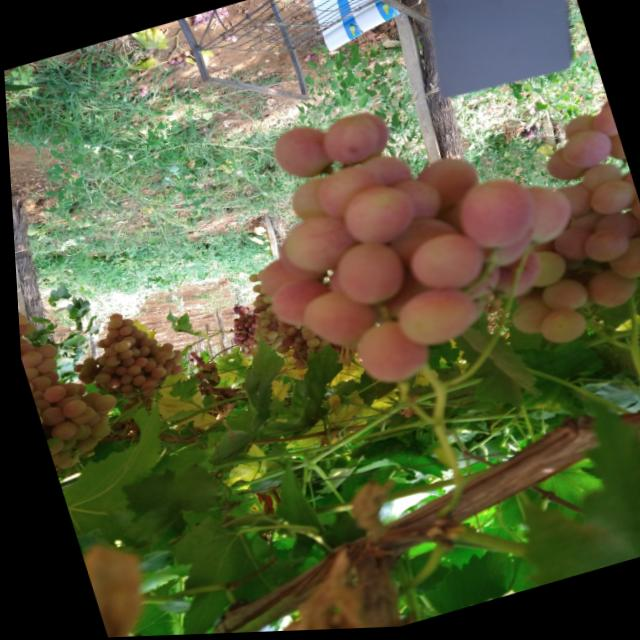grapes: (445, 171, 541, 261), (386, 281, 484, 356), (292, 283, 381, 357), (326, 236, 410, 314), (272, 208, 360, 282), (400, 227, 487, 301), (347, 317, 431, 393), (334, 179, 419, 252), (497, 181, 574, 256), (309, 161, 395, 228), (264, 119, 342, 188), (379, 212, 463, 276), (407, 153, 485, 221), (248, 248, 330, 305), (472, 243, 542, 309), (262, 276, 336, 335), (312, 113, 381, 174), (367, 257, 432, 321), (282, 173, 349, 232), (469, 217, 536, 275), (332, 108, 393, 169), (382, 175, 443, 233), (577, 266, 639, 318), (349, 152, 412, 203), (445, 259, 504, 309), (554, 130, 613, 178), (513, 248, 568, 296), (532, 306, 587, 353), (540, 184, 592, 230), (535, 278, 588, 323), (576, 228, 630, 272), (546, 226, 598, 271), (538, 146, 593, 188), (501, 299, 552, 344), (597, 237, 640, 289), (557, 114, 609, 156), (583, 182, 637, 222), (587, 213, 636, 253), (574, 165, 624, 201), (565, 213, 608, 245), (584, 109, 617, 147), (608, 212, 640, 249), (598, 131, 624, 171), (593, 100, 615, 140), (32, 403, 62, 428), (622, 195, 640, 233), (85, 392, 113, 416), (43, 420, 73, 442), (62, 405, 92, 427), (55, 398, 83, 419), (47, 451, 76, 471), (30, 367, 56, 389), (49, 380, 76, 401), (65, 435, 93, 455), (82, 420, 108, 441), (75, 390, 101, 411), (29, 341, 55, 362), (27, 355, 54, 375), (37, 383, 62, 404), (23, 375, 48, 395), (16, 347, 38, 368), (47, 395, 74, 412), (47, 435, 73, 452), (40, 435, 61, 456), (56, 424, 81, 441), (65, 424, 87, 441), (83, 412, 105, 429), (76, 409, 96, 427), (62, 383, 83, 400), (19, 363, 36, 382), (46, 446, 69, 460), (188, 371, 204, 389), (29, 397, 47, 413), (121, 328, 140, 343), (126, 356, 145, 371), (87, 371, 107, 385), (144, 366, 162, 381), (15, 322, 33, 337), (134, 386, 153, 400), (133, 380, 152, 394), (99, 376, 118, 390), (96, 362, 115, 376), (287, 358, 304, 373), (121, 363, 138, 378), (126, 373, 142, 388), (275, 337, 292, 351), (114, 317, 131, 331), (116, 335, 133, 349), (148, 350, 165, 364), (295, 330, 313, 343), (132, 398, 150, 411), (74, 364, 92, 377), (102, 317, 120, 330), (112, 349, 130, 362), (26, 388, 41, 403), (134, 337, 150, 351), (136, 361, 152, 375), (16, 341, 32, 355), (271, 345, 288, 358), (91, 337, 108, 350), (97, 335, 114, 348), (116, 388, 134, 400), (14, 310, 25, 329), (311, 340, 327, 353), (114, 373, 130, 386), (100, 355, 116, 368), (113, 325, 129, 338), (129, 330, 145, 343), (139, 337, 155, 350), (131, 346, 147, 359), (143, 345, 159, 358), (155, 342, 171, 355), (108, 341, 125, 353), (125, 395, 143, 406), (285, 341, 300, 354), (121, 347, 136, 360), (300, 339, 316, 351), (115, 403, 131, 415), (114, 382, 130, 394), (75, 374, 91, 386), (71, 370, 87, 382), (81, 366, 97, 378), (98, 347, 114, 359), (156, 359, 172, 371), (114, 357, 131, 368), (261, 305, 274, 319), (272, 325, 286, 338), (253, 327, 267, 340), (109, 364, 123, 377), (114, 339, 128, 352), (243, 273, 258, 285), (300, 347, 315, 359), (66, 362, 81, 374), (103, 341, 118, 353), (157, 350, 172, 362), (162, 348, 177, 360), (103, 312, 119, 323), (162, 356, 178, 367), (286, 351, 300, 363), (77, 356, 91, 368), (295, 326, 310, 337), (138, 357, 153, 368), (101, 323, 117, 333), (247, 284, 259, 297), (297, 342, 309, 355), (293, 350, 307, 361), (265, 341, 279, 352), (139, 376, 153, 387), (45, 450, 55, 465), (108, 334, 124, 343), (287, 337, 300, 348), (281, 328, 294, 339), (106, 383, 119, 394), (88, 380, 101, 391), (166, 365, 179, 376), (92, 355, 105, 366), (254, 320, 268, 330), (269, 335, 283, 345), (102, 390, 116, 400), (119, 325, 134, 334), (251, 272, 262, 284), (264, 323, 276, 334), (262, 331, 274, 342), (157, 363, 169, 374), (250, 318, 263, 328), (148, 378, 161, 388), (98, 345, 111, 355), (102, 329, 115, 339), (23, 378, 31, 394), (259, 297, 271, 307), (253, 311, 264, 321), (150, 359, 161, 369), (247, 300, 259, 309), (258, 337, 270, 346), (16, 334, 24, 347), (95, 380, 105, 390), (252, 303, 263, 312), (15, 324, 24, 335), (249, 308, 261, 316), (33, 414, 40, 427), (252, 269, 262, 278), (101, 332, 111, 341), (259, 315, 270, 323), (251, 295, 260, 304), (265, 316, 274, 325), (138, 87, 148, 95), (232, 323, 242, 331), (88, 357, 96, 367), (30, 404, 37, 415), (268, 86, 277, 94), (182, 51, 192, 58), (37, 428, 43, 439), (233, 334, 241, 342), (228, 321, 237, 328), (239, 322, 248, 329), (243, 327, 252, 334), (243, 333, 252, 340), (257, 297, 265, 304), (166, 58, 174, 65), (167, 88, 175, 95), (249, 315, 256, 323), (242, 317, 250, 324), (247, 324, 255, 331), (242, 331, 250, 338), (242, 338, 250, 345), (237, 327, 245, 334), (254, 72, 263, 78), (239, 354, 248, 360), (228, 35, 235, 42), (234, 318, 241, 325), (238, 340, 245, 347), (179, 56, 187, 62), (301, 58, 309, 64), (191, 357, 199, 363), (194, 362, 202, 368), (232, 311, 240, 317), (242, 311, 250, 317), (236, 332, 244, 338), (230, 335, 238, 341), (230, 339, 238, 345), (243, 343, 252, 348), (14, 306, 18, 317), (224, 36, 230, 43), (186, 352, 193, 358), (190, 363, 196, 370), (241, 351, 248, 357), (228, 307, 235, 313), (237, 310, 244, 316), (239, 318, 246, 324), (246, 322, 253, 328), (229, 319, 236, 325), (229, 325, 236, 331), (238, 335, 245, 341), (229, 328, 236, 334), (139, 93, 145, 99), (245, 349, 251, 355), (241, 345, 247, 351), (230, 39, 237, 44), (303, 55, 310, 60), (183, 358, 190, 363), (196, 365, 203, 370), (228, 309, 235, 314), (234, 317, 241, 322), (229, 336, 236, 341), (175, 58, 181, 63), (233, 307, 239, 312), (228, 342, 234, 347), (228, 339, 234, 344), (176, 63, 183, 67), (233, 344, 240, 348), (86, 365, 93, 369), (230, 312, 236, 316), (235, 315, 241, 319), (184, 352, 189, 356), (189, 356, 194, 360), (237, 308, 242, 312), (246, 315, 251, 319), (248, 332, 252, 337), (248, 345, 253, 349), (229, 333, 234, 337), (225, 330, 229, 334)
